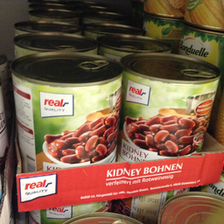beans: (12, 54, 122, 189), (120, 52, 218, 175)
